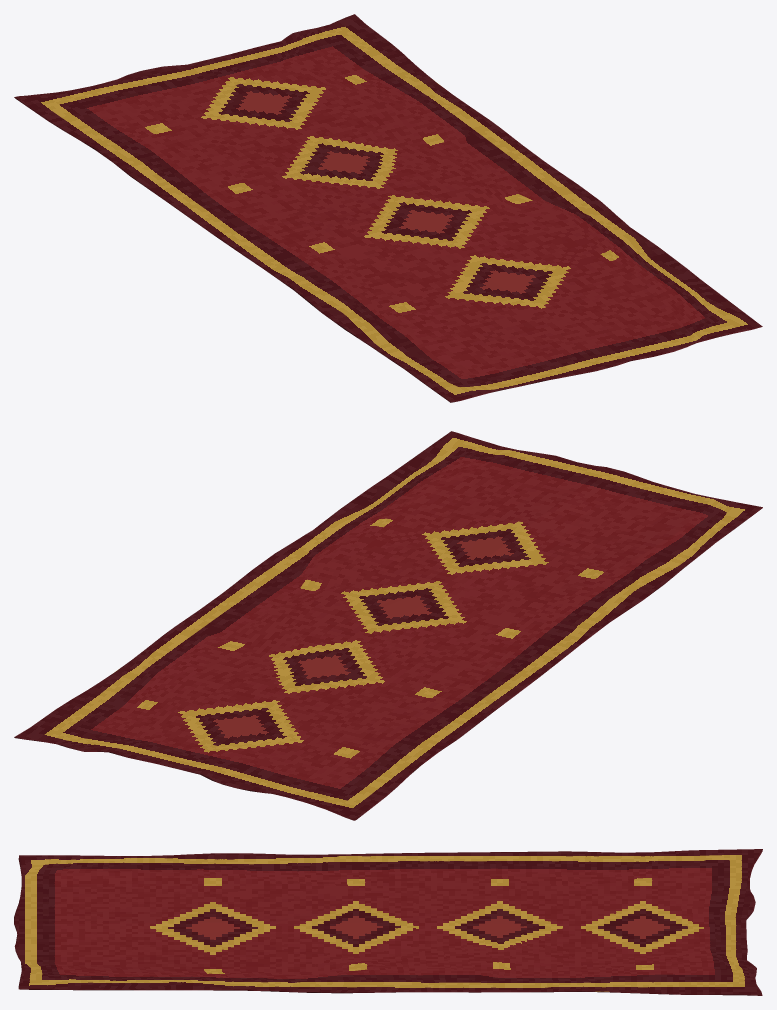
Rendered from SM_cenario_tapetecorredor.glb.
3 views of the same model, one above another, from view 1: azimuth 30°, elevation 25°; view 2: azimuth 150°, elevation 25°; view 3: azimuth 270°, elevation 25° (orthographic). The views are drawn at different scales.
Visible parts, largest first — view 1: mesh_node.001; view 2: mesh_node.001; view 3: mesh_node.001.
Part boxes in pixels (left/top/right/bottom): mesh_node.001: left=14, top=14, right=762, bottom=402; mesh_node.001: left=14, top=431, right=762, bottom=820; mesh_node.001: left=14, top=849, right=762, bottom=995.
Bounding box in the file's own units: 3.61 × 0.04 × 7.79.
Materials: 1 (1 with a texture image).
